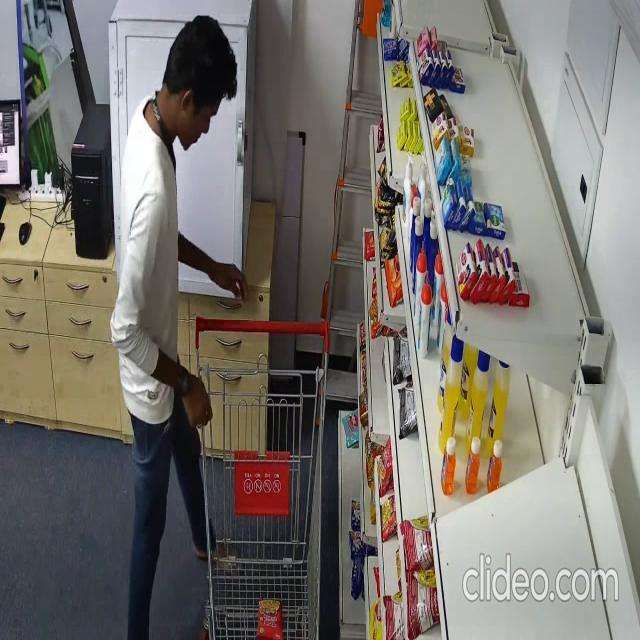normal: (111, 13, 246, 640)
